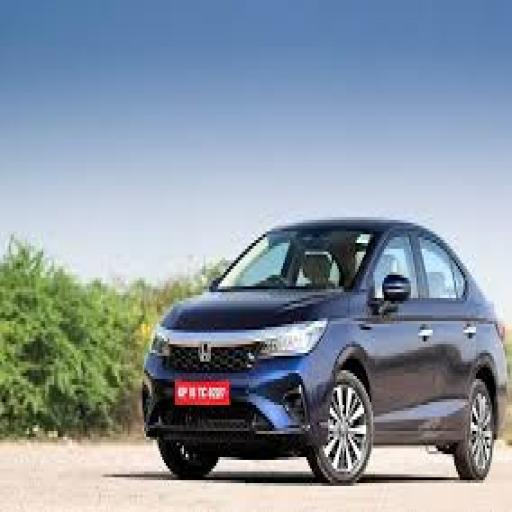License: (168, 376, 238, 410)
